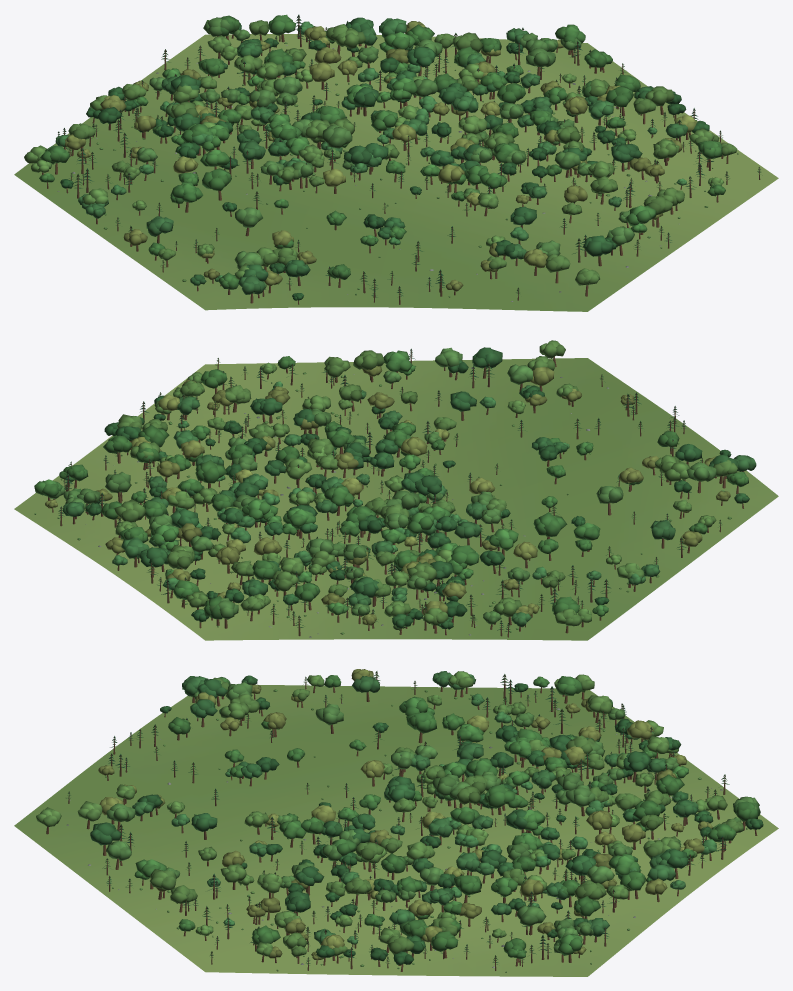
3 renders of one model, top to bottom at view 1: azimuth 30°, elevation 25°; view 2: azimuth 150°, elevation 25°; view 3: azimuth 270°, elevation 25°, orthographic.
Parts seen in each view (by area): view 1: terrain, broadleaf_canopy, trunks, conifer_canopy; view 2: terrain, broadleaf_canopy, trunks, conifer_canopy; view 3: terrain, broadleaf_canopy, trunks, conifer_canopy.
Boxes of the visible parts, x1,y1,x2,y2 form: terrain: (14,34,778,311); broadleaf_canopy: (24,14,737,300); trunks: (42,16,760,304); conifer_canopy: (57,14,762,297); terrain: (14,358,778,640); broadleaf_canopy: (34,340,756,629); trunks: (48,349,744,637); conifer_canopy: (58,348,722,631); terrain: (14,684,778,976); broadleaf_canopy: (36,669,763,965); trunks: (46,672,757,971); conifer_canopy: (66,671,729,965).
Bounding box in the file's own units: 4330 × 322 × 5000.
